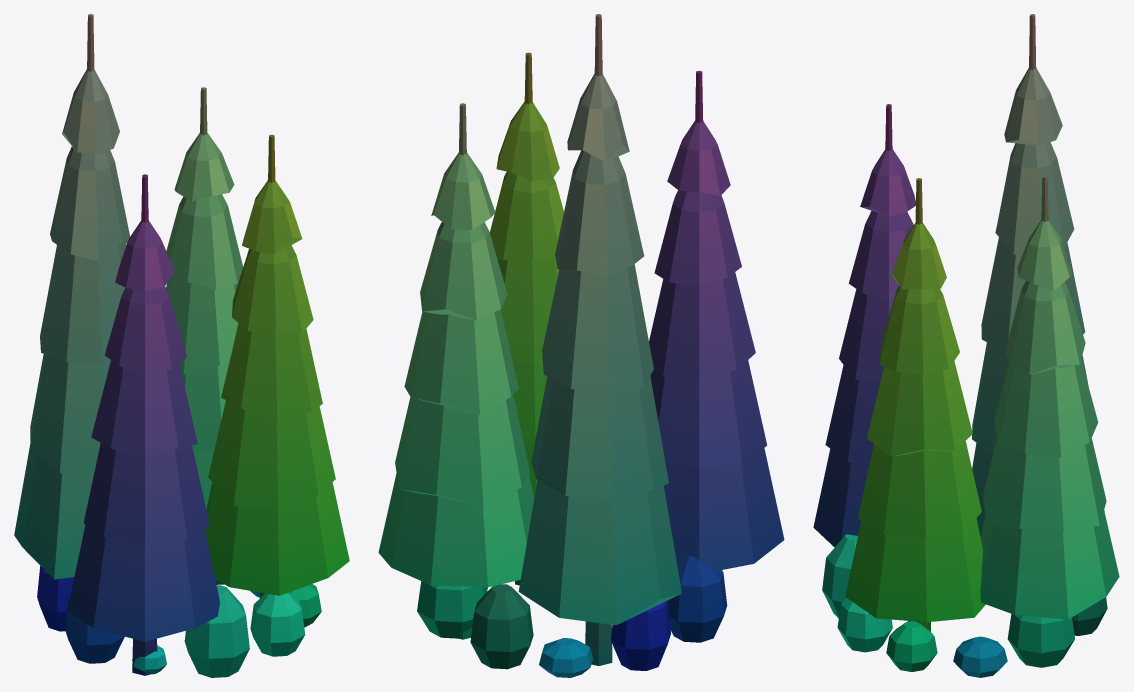
The model's file is spruce_00.glb.
3 views of the same model, side by side, from view 1: azimuth 30°, elevation 25°; view 2: azimuth 150°, elevation 25°; view 3: azimuth 270°, elevation 25° (orthographic). The views are drawn at different scales.
Parts seen in each view (by area): view 1: spruce_00.002; view 2: spruce_00.002; view 3: spruce_00.002.
Boxes of the visible parts, <box> form: spruce_00.002: <box>14,14,349,677</box>; spruce_00.002: <box>378,14,784,677</box>; spruce_00.002: <box>813,14,1119,677</box>.
Size of the model in its own units: 0.94 by 1.94 by 0.9248.
